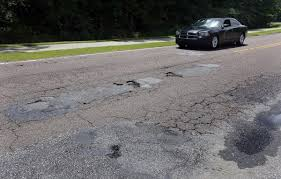pothole: (176, 96, 226, 130), (19, 91, 57, 120), (238, 128, 273, 156), (111, 78, 148, 96), (161, 67, 187, 84), (104, 142, 125, 162)
